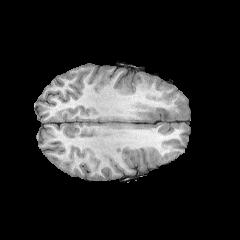glioma: (132, 98, 187, 119)
